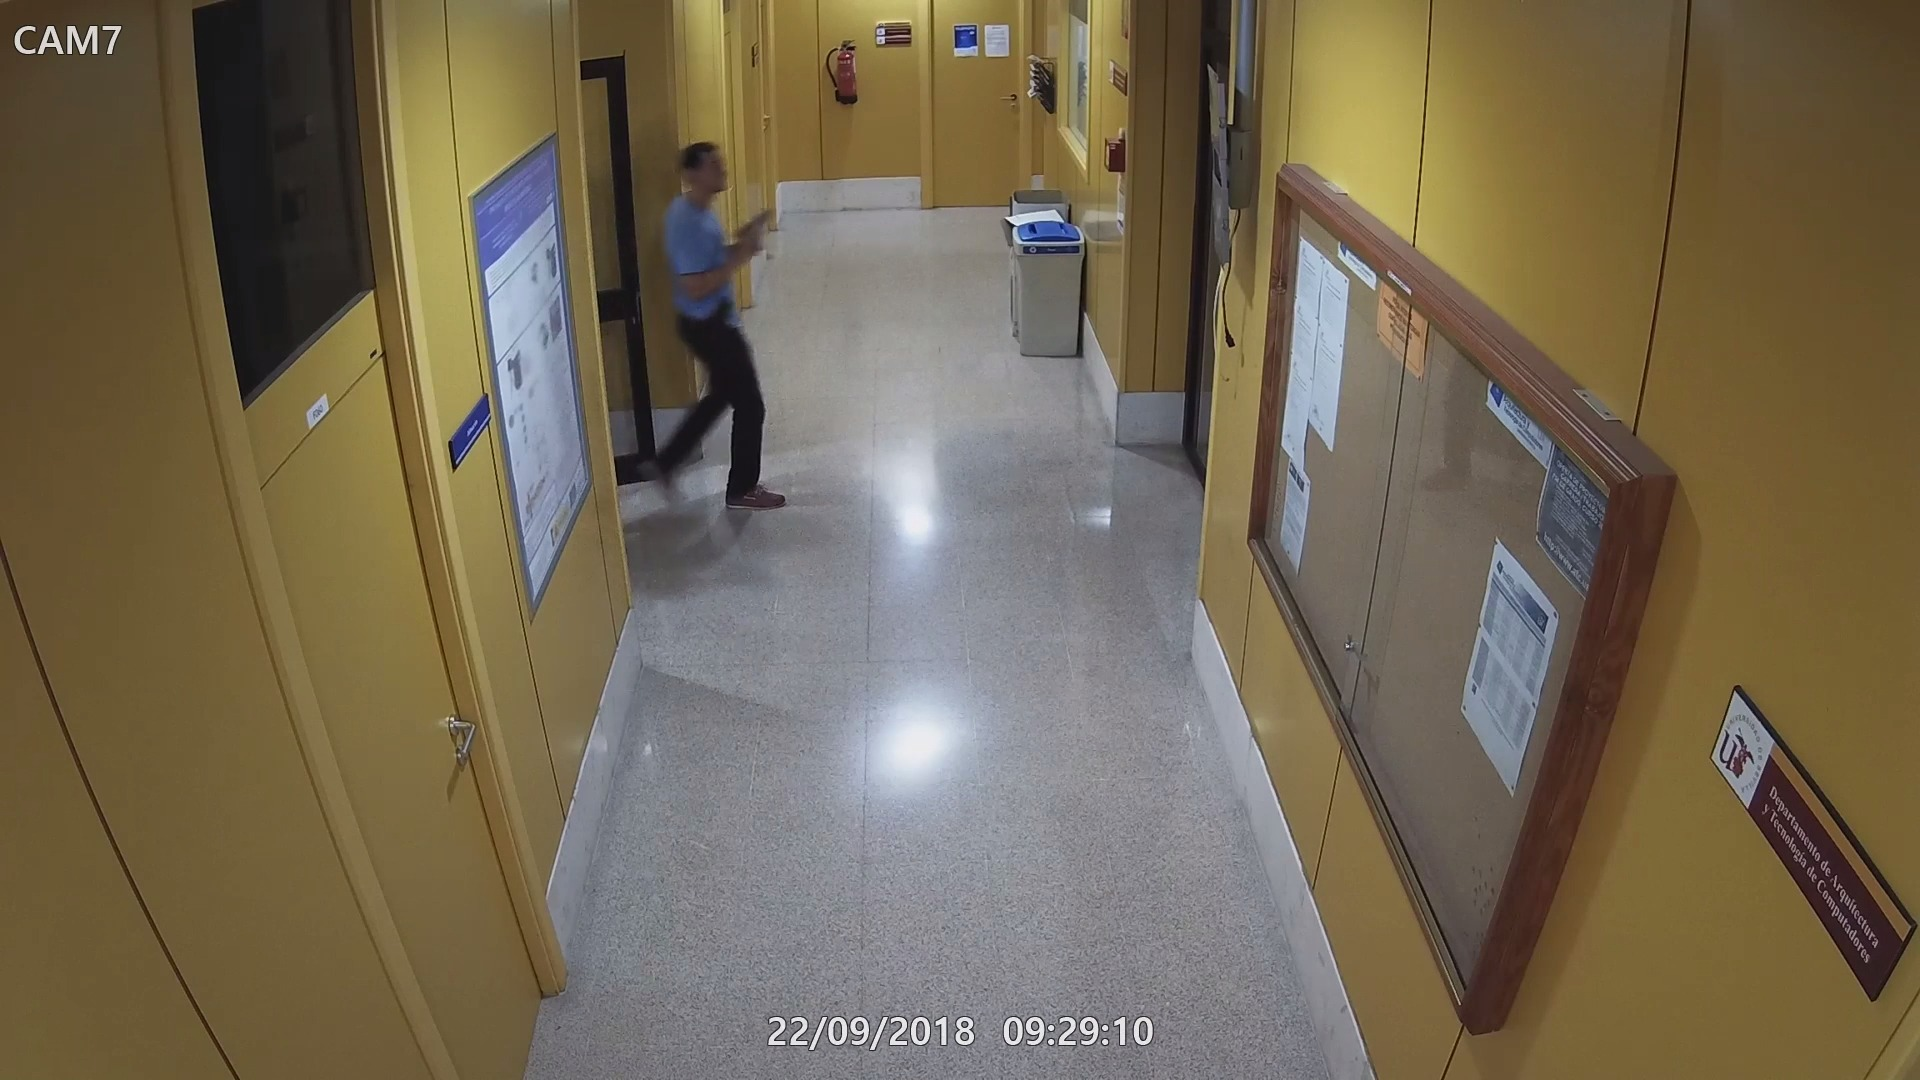Handgun: (733, 199, 782, 251)
